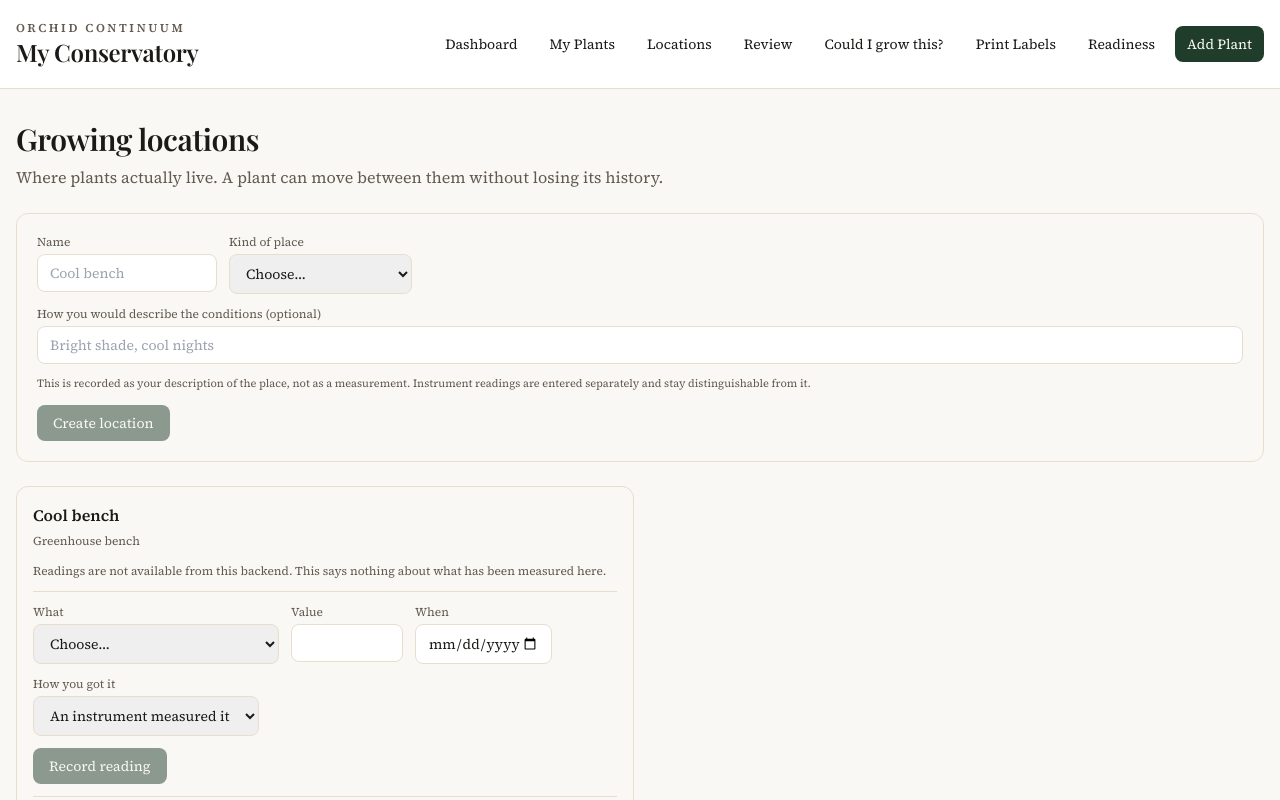
MyConservatory recording an environmental reading › says why an instrument is required
Select "An instrument measured it" in the dropdown with test id "reading-origin" at coordinates (146, 716), box [33,696,259,736]
(page scrolled)
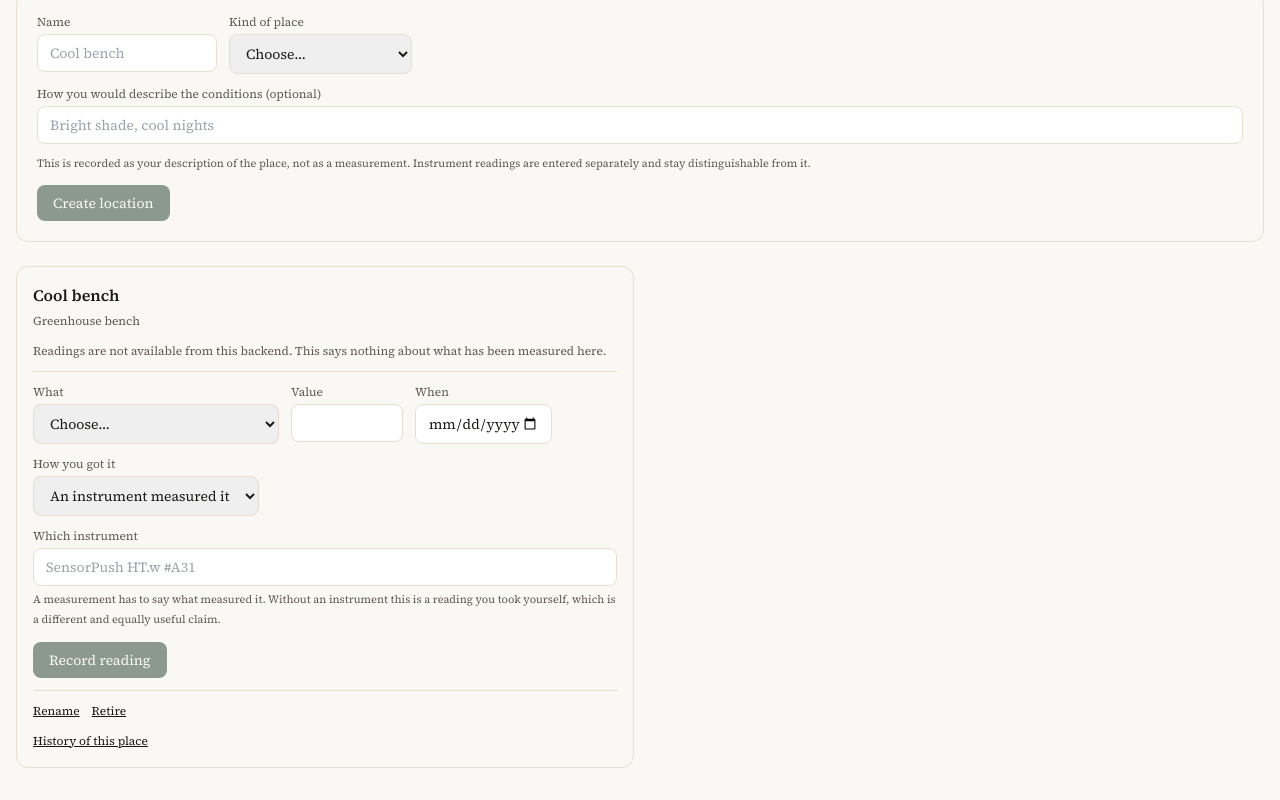
Expected: the text with test id "instrument-required" shows "A measurement has to say what measured it", [33,592,616,626]
